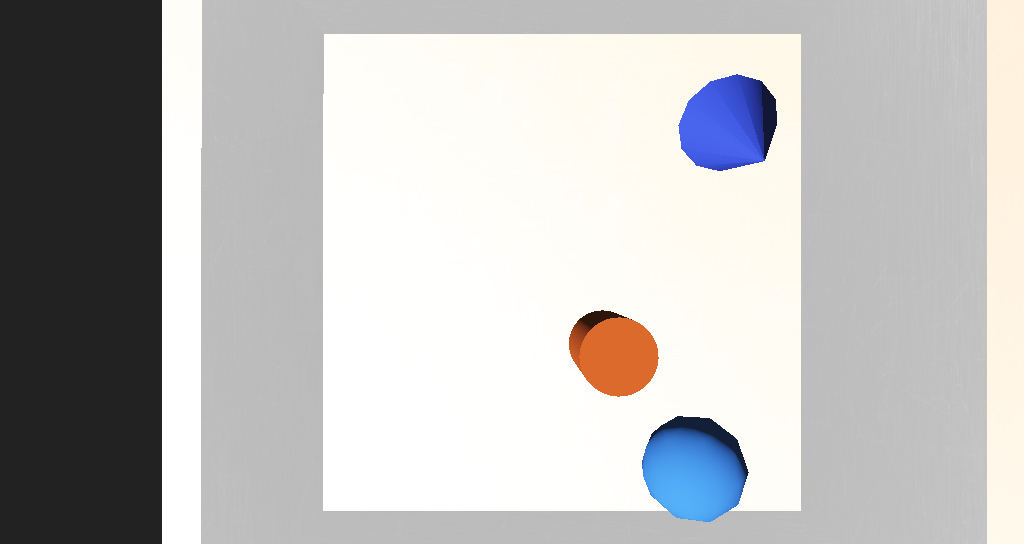cone: (515, 289, 563, 322)
cylinder: (583, 177, 657, 243)
sphere: (556, 332, 616, 375)
